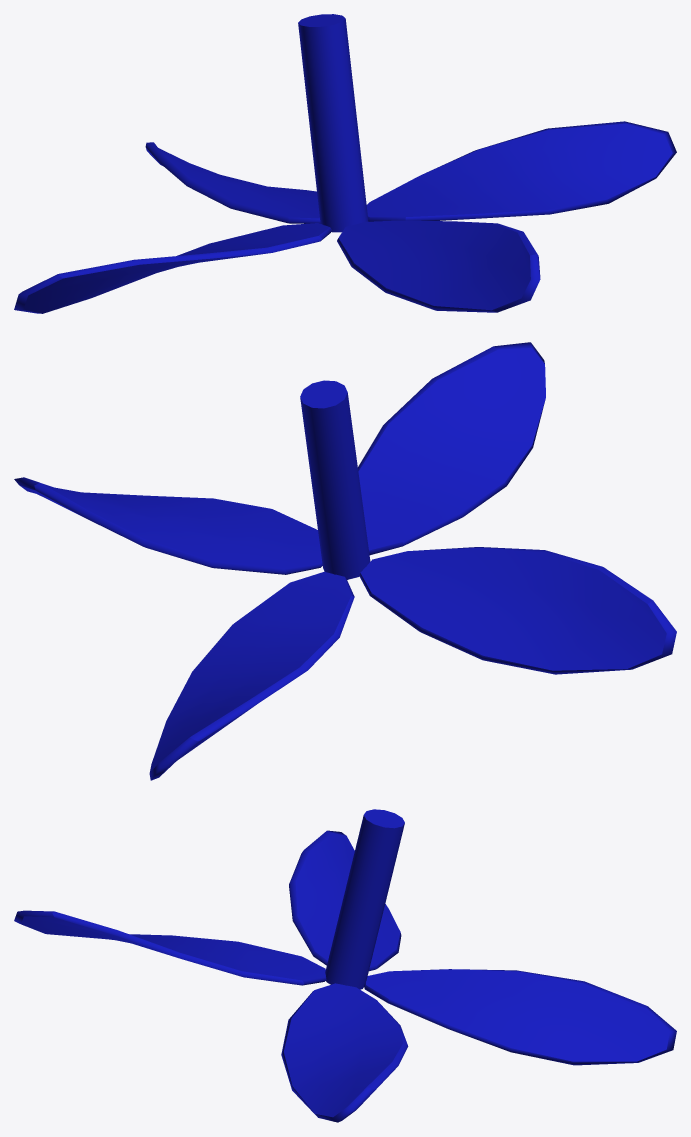
Rendered from Parts_Helicopter_90fix.fbx.
3 renders of one model, top to bottom at view 1: azimuth 30°, elevation 25°; view 2: azimuth 150°, elevation 25°; view 3: azimuth 270°, elevation 25°, orthographic. The views are drawn at different scales.
Parts seen in each view (by area): view 1: Cylinder012; view 2: Cylinder012; view 3: Cylinder012.
Boxes of the visible parts, x1,y1,x2,y2 form: Cylinder012: [14, 14, 676, 313]; Cylinder012: [14, 342, 676, 780]; Cylinder012: [14, 809, 676, 1122].
Bounding box in the file's own units: 24.6 × 9.9 × 24.93.
